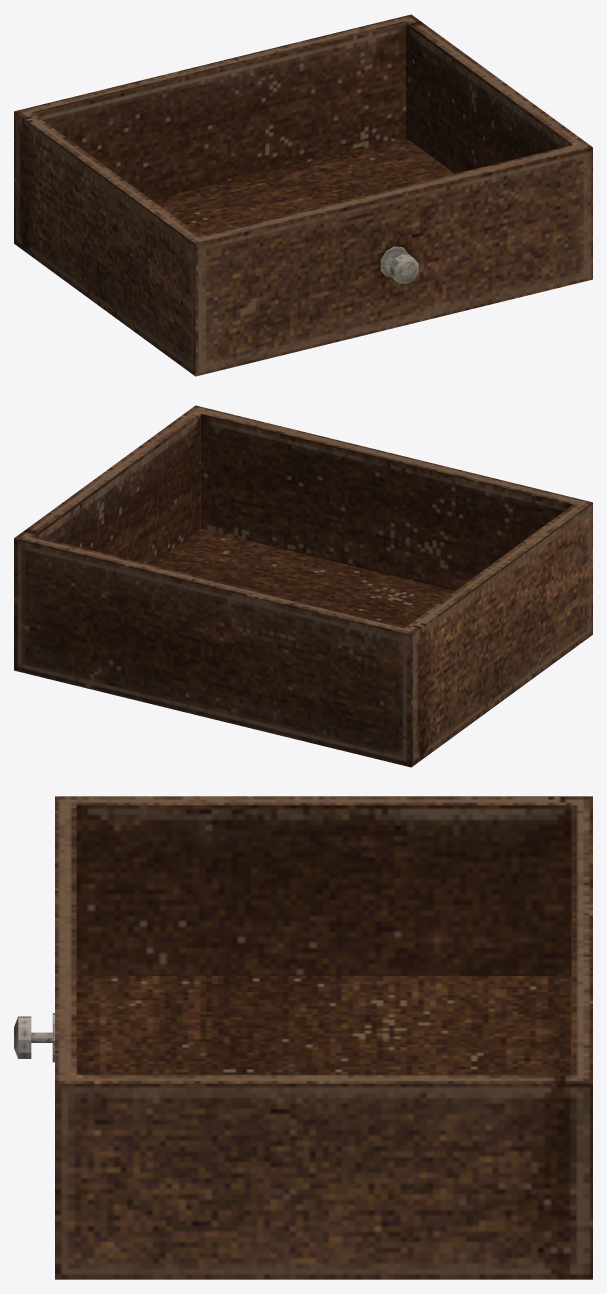
Rendered from NightStand_Drawer.glb.
3 views of the same model, one above another, from view 1: azimuth 30°, elevation 25°; view 2: azimuth 150°, elevation 25°; view 3: azimuth 270°, elevation 25° (orthographic). The views are drawn at different scales.
Parts seen in each view (by area): view 1: NightStandDrawer; view 2: NightStandDrawer; view 3: NightStandDrawer.
Boxes of the visible parts, <box> form: NightStandDrawer: <box>14,14,592,376</box>; NightStandDrawer: <box>14,405,592,767</box>; NightStandDrawer: <box>14,796,592,1279</box>.
Bounding box in the file's own units: 0.3882 × 0.1235 × 0.3307.
1 material, 1 textured.
